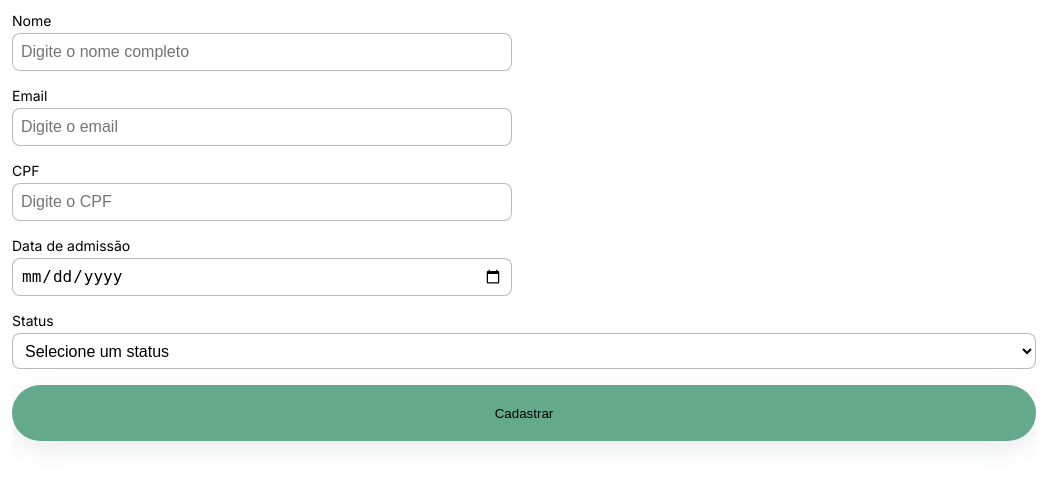
it: FormUser Validations › should display invalid email error when email is not valid
Type "angular@" into the field labelled "Email". click: (262, 127)
box: [12,108,512,146]
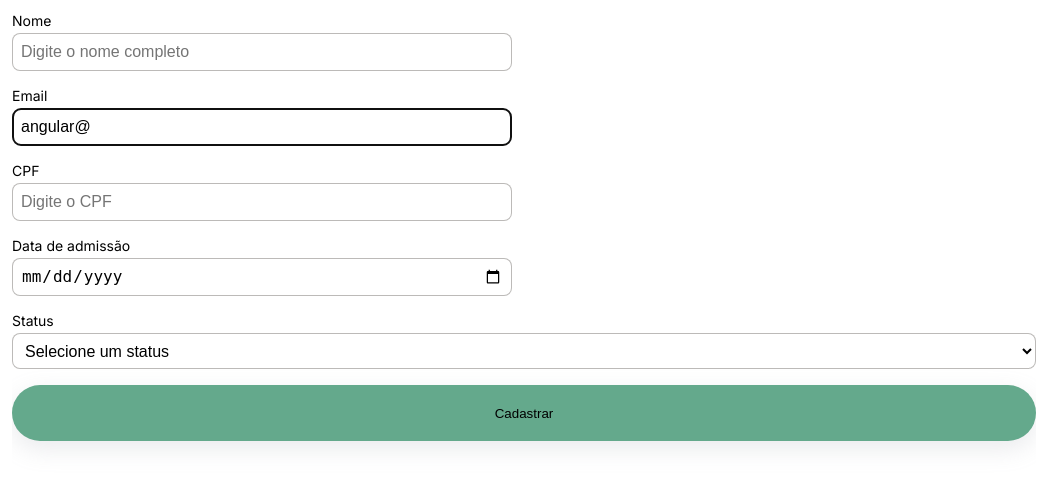
Click the button "Cadastrar". click: (524, 413)
box: [12,385,1036,441]
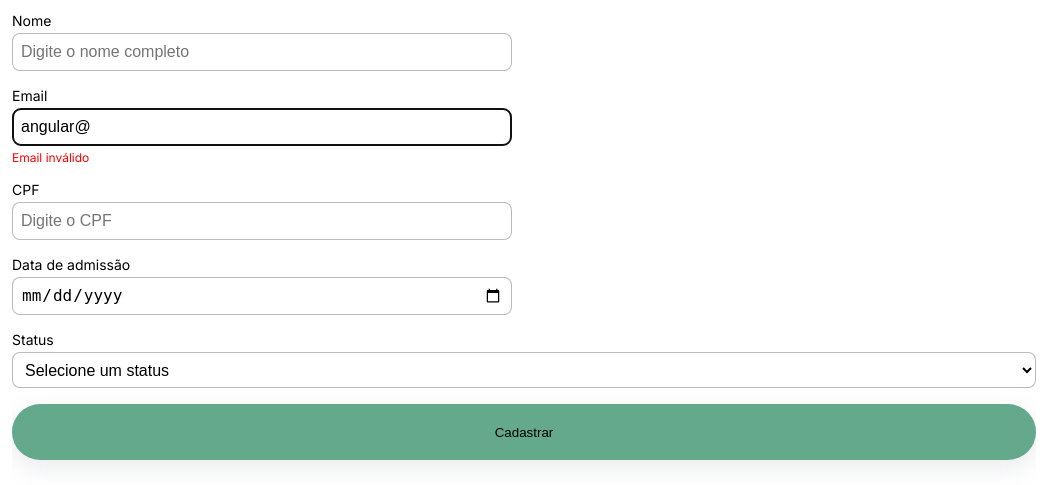
Now the text "Email inválido" is shown, box [12,150,89,165]
